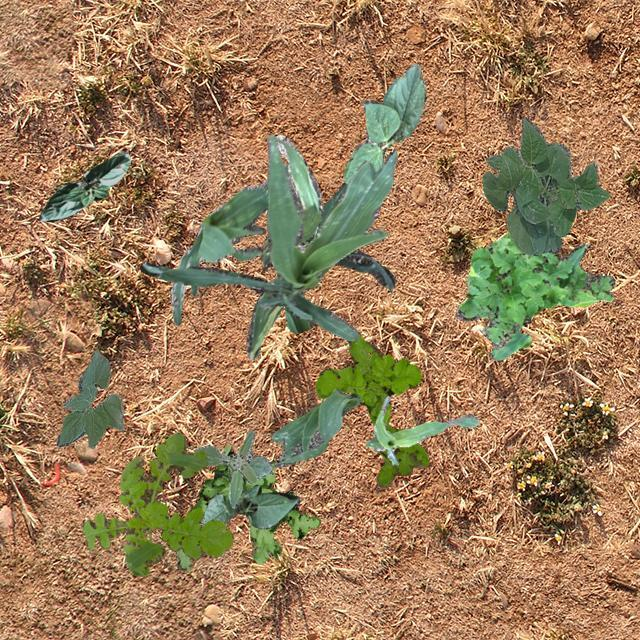crop: (138, 133, 396, 340), (244, 182, 394, 358), (170, 162, 288, 324), (481, 116, 608, 255), (260, 134, 320, 332), (342, 64, 426, 182), (364, 396, 478, 464), (270, 388, 360, 467), (55, 349, 124, 446), (38, 150, 128, 220), (198, 483, 298, 528)
weed: (80, 432, 232, 576), (456, 230, 614, 360), (176, 444, 320, 570), (314, 330, 428, 488), (192, 428, 272, 508)
